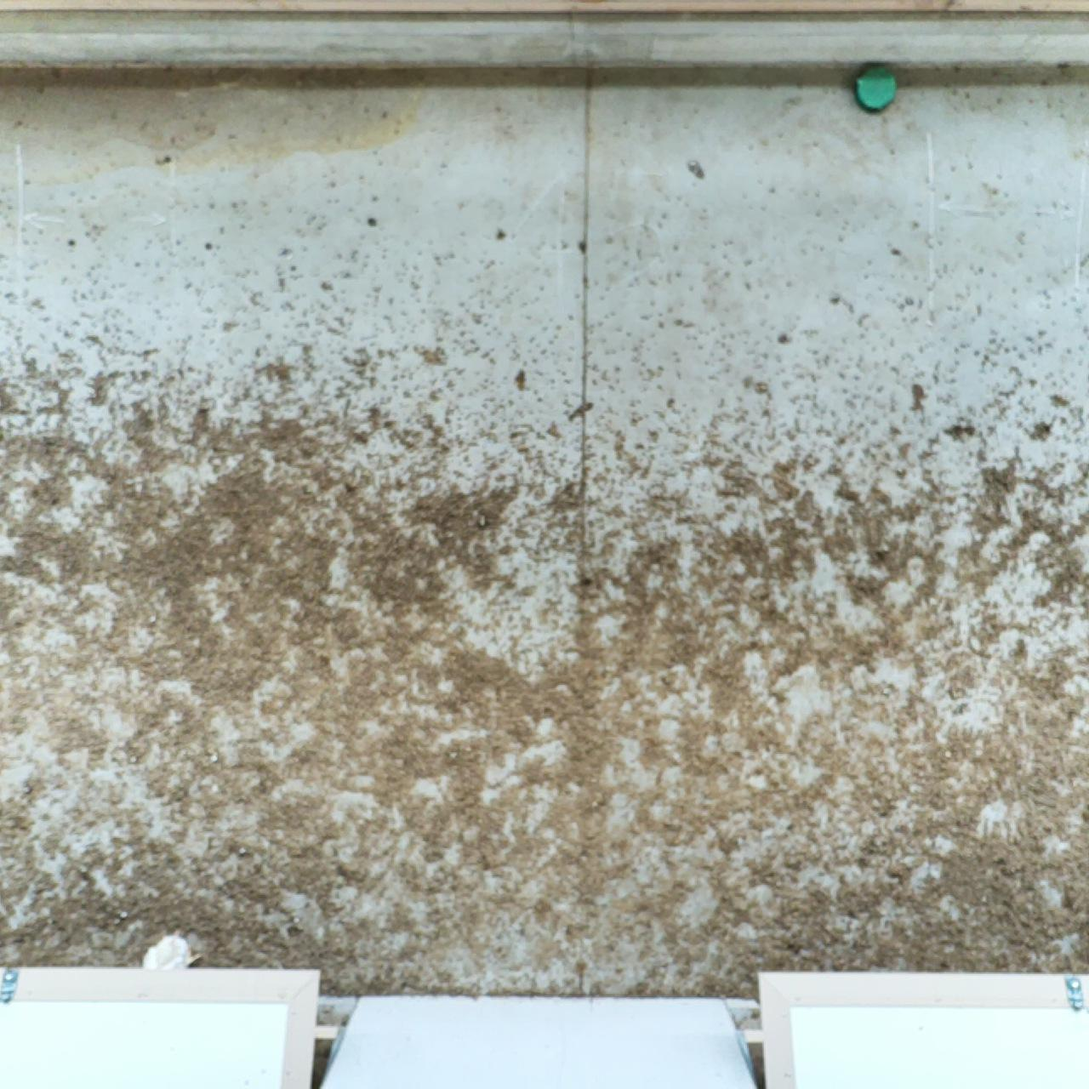chicken: (134, 929, 203, 1000)
